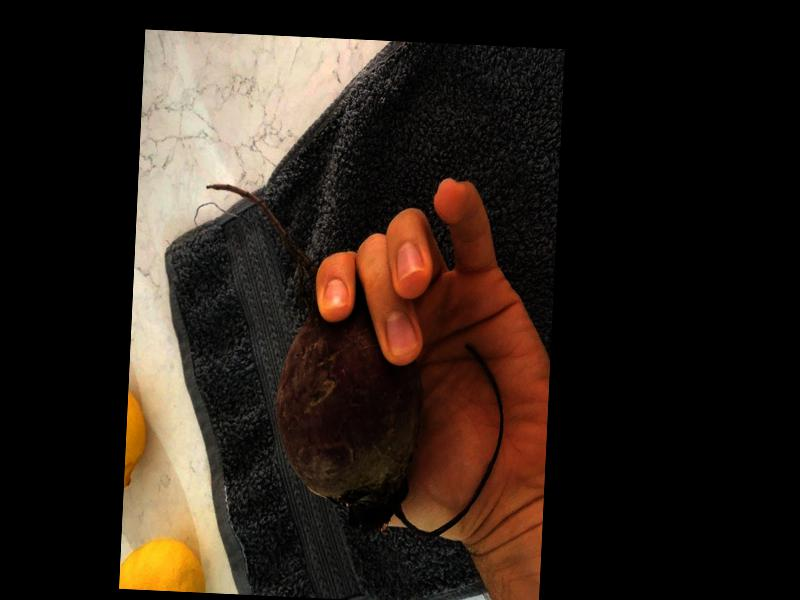Beet: (190, 184, 514, 537)
